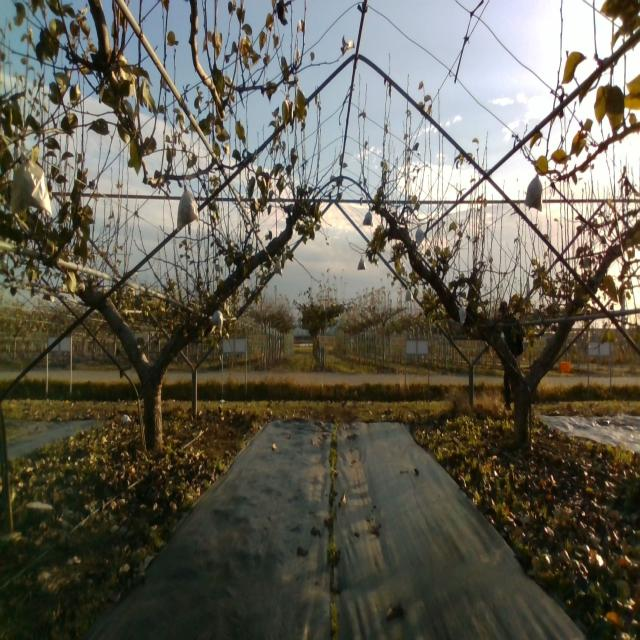pearbags: (8, 159, 52, 217), (177, 182, 200, 230), (524, 174, 543, 212), (210, 308, 223, 335), (415, 225, 426, 247), (363, 209, 373, 227)
